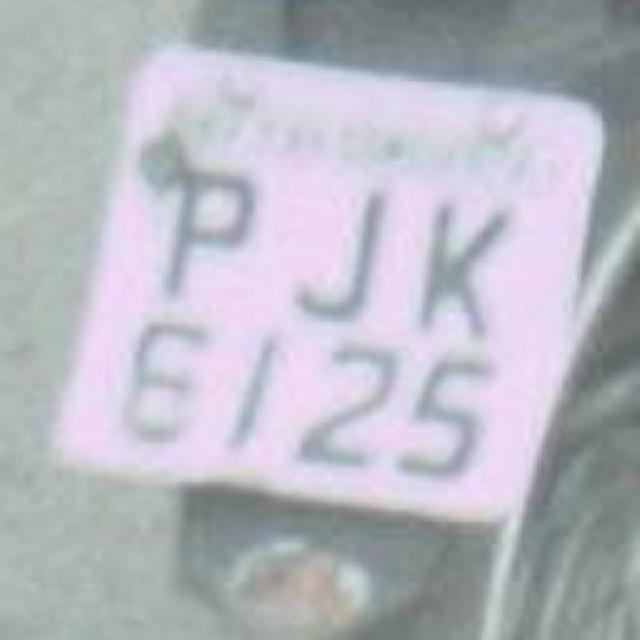1: (195, 308, 320, 472)
2: (284, 328, 424, 484)
3: (92, 288, 236, 460)
5: (380, 336, 512, 492)
J: (265, 164, 400, 331)
K: (392, 169, 516, 356)
P: (136, 152, 264, 316)
